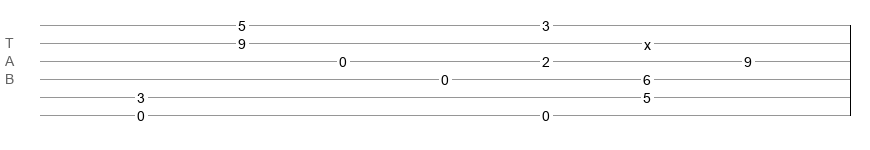0: (137, 108, 145, 118), (339, 54, 347, 64), (441, 72, 449, 82), (542, 108, 550, 118)
2: (542, 54, 550, 64)
3: (137, 90, 145, 100), (542, 18, 550, 28)
5: (238, 18, 246, 28), (643, 90, 651, 100)
6: (643, 72, 651, 82)
9: (238, 36, 246, 46), (744, 54, 752, 64)
x: (644, 37, 651, 45)
